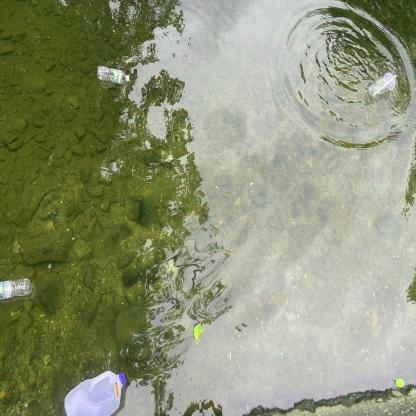Plastic: (56, 367, 133, 416), (365, 65, 402, 105), (94, 59, 135, 91), (0, 273, 36, 304)
